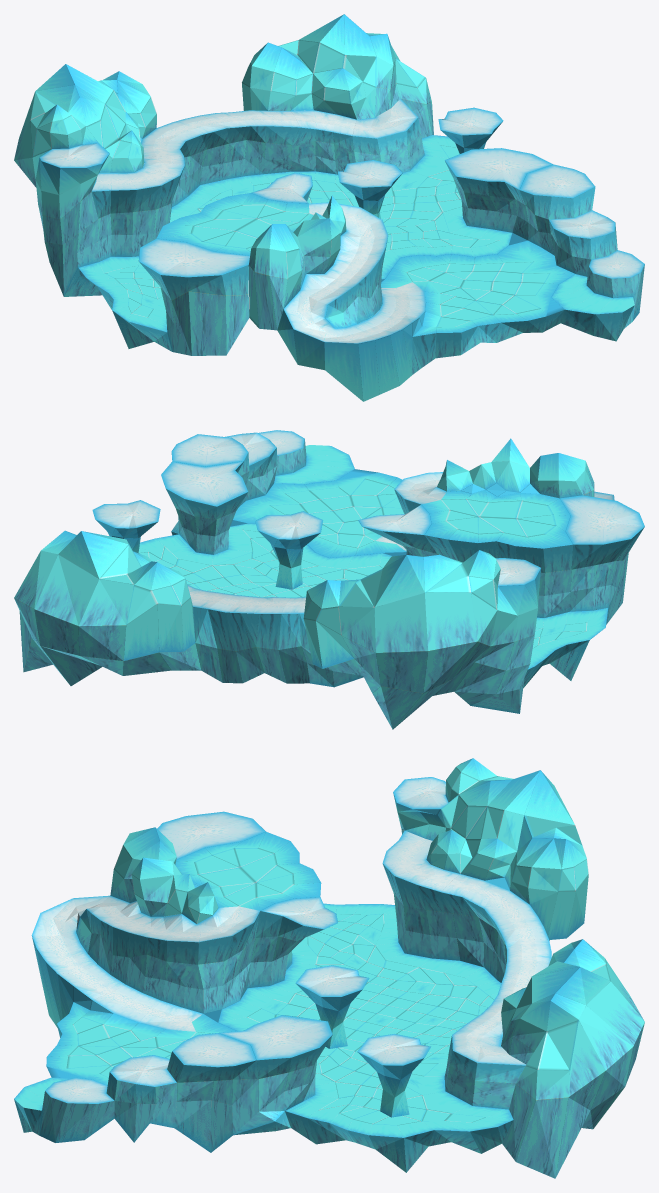
Rendered from test-zone2.glb.
3 renders of one model, top to bottom at view 1: azimuth 30°, elevation 25°; view 2: azimuth 150°, elevation 25°; view 3: azimuth 270°, elevation 25°, orthographic. The views are drawn at different scales.
Parts seen in each view (by area): view 1: Frame_0.005; view 2: Frame_0.005; view 3: Frame_0.005.
Part boxes in pixels (<box>): Frame_0.005: <box>14,14,644,401</box>; Frame_0.005: <box>14,430,644,729</box>; Frame_0.005: <box>14,758,644,1178</box>.
Size of the model in its own units: 103 by 41.77 by 111.
Materials: 1 (1 with a texture image).
